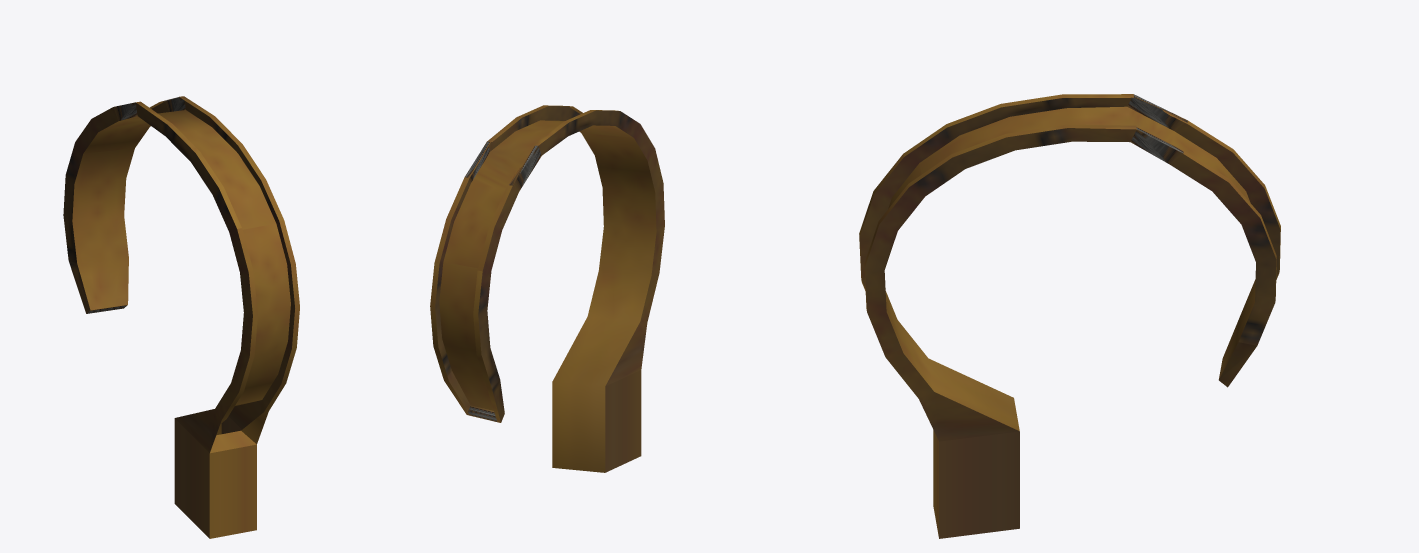
The model's file is crest_high_myce_01.dae.
3 renders of one model, left to right at view 1: azimuth 30°, elevation 25°; view 2: azimuth 150°, elevation 25°; view 3: azimuth 270°, elevation 25°, orthographic. The views are drawn at different scales.
Parts seen in each view (by area): view 1: Crest- E - Transversal; view 2: Crest- E - Transversal; view 3: Crest- E - Transversal.
Part boxes in pixels (<box>): Crest- E - Transversal: <box>63,96,299,538</box>; Crest- E - Transversal: <box>430,105,664,472</box>; Crest- E - Transversal: <box>859,94,1280,538</box>.
Size of the model in its own units: 0.1089 by 0.8457 by 0.7163.
1 material, 1 textured.
